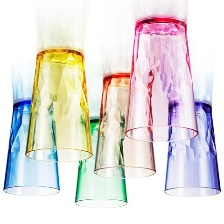glass: (120, 10, 203, 148), (22, 44, 96, 166), (91, 69, 163, 183), (158, 99, 224, 201), (0, 97, 63, 200), (70, 113, 133, 213)
